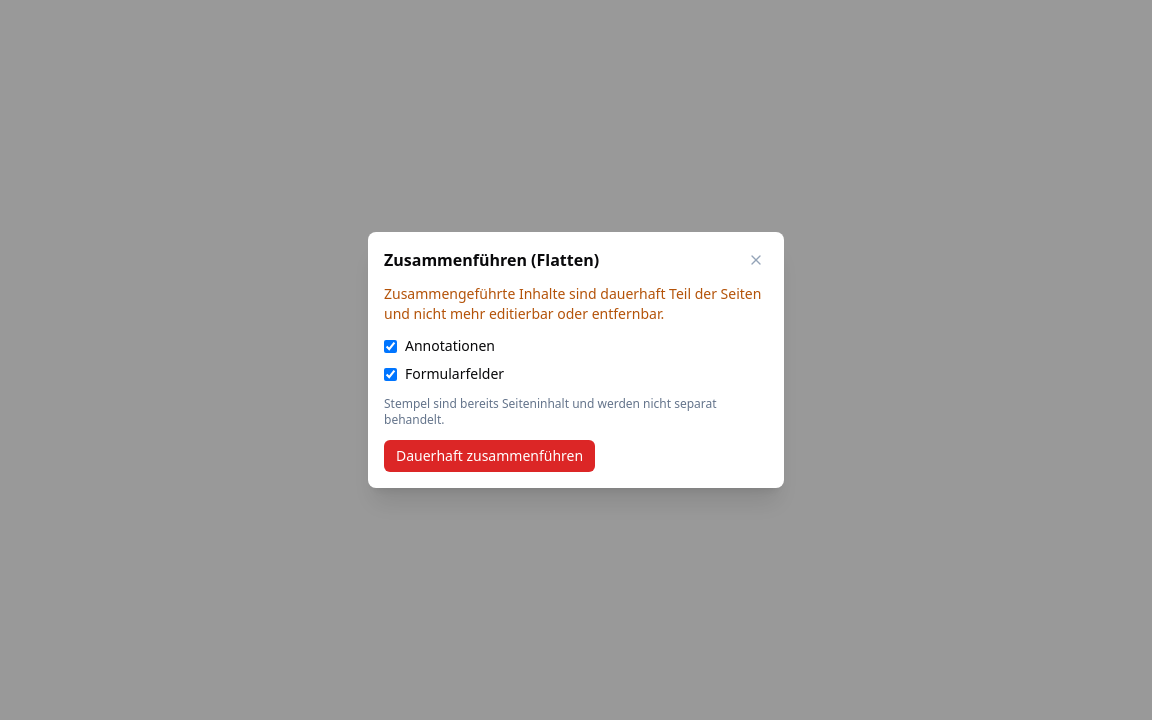
Scenario: PagesDialogs Bilder & Flatten (Section 7) › Flatten: ohne Kategorie deaktiv
Step 1. Click the checkbox with test id "flat-annotations" → (390, 346), box [384, 340, 397, 352]
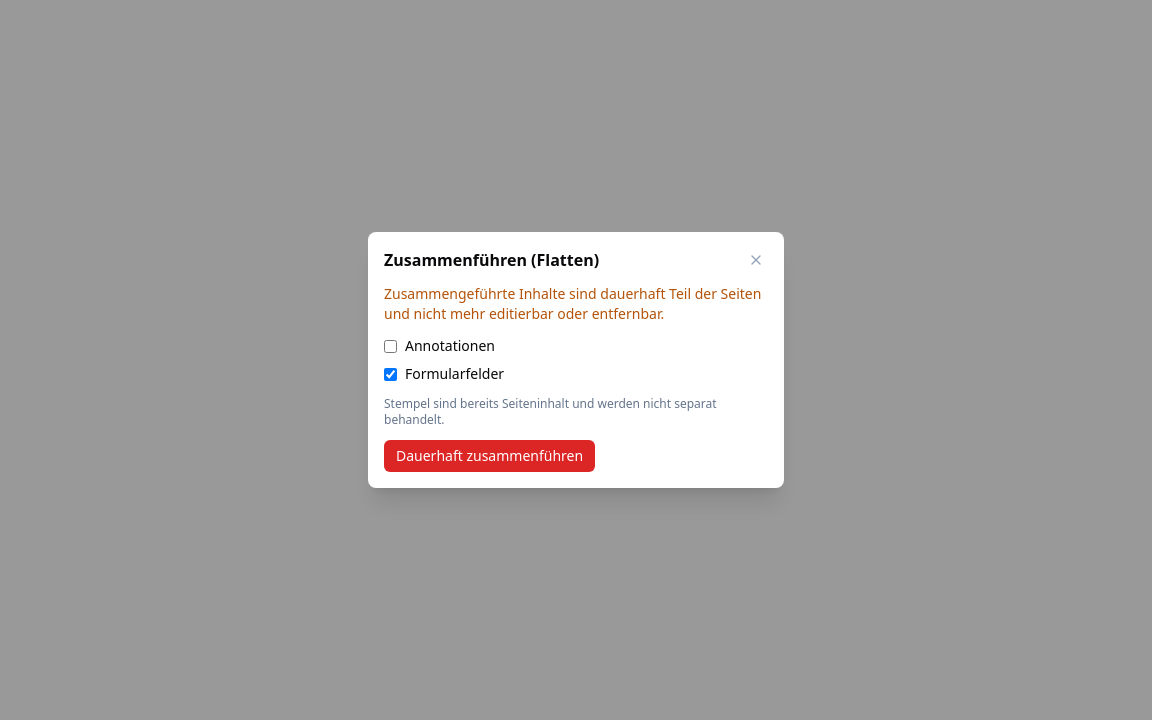
Step 2. Click the checkbox with test id "flat-forms" → (390, 374), box [384, 368, 397, 380]
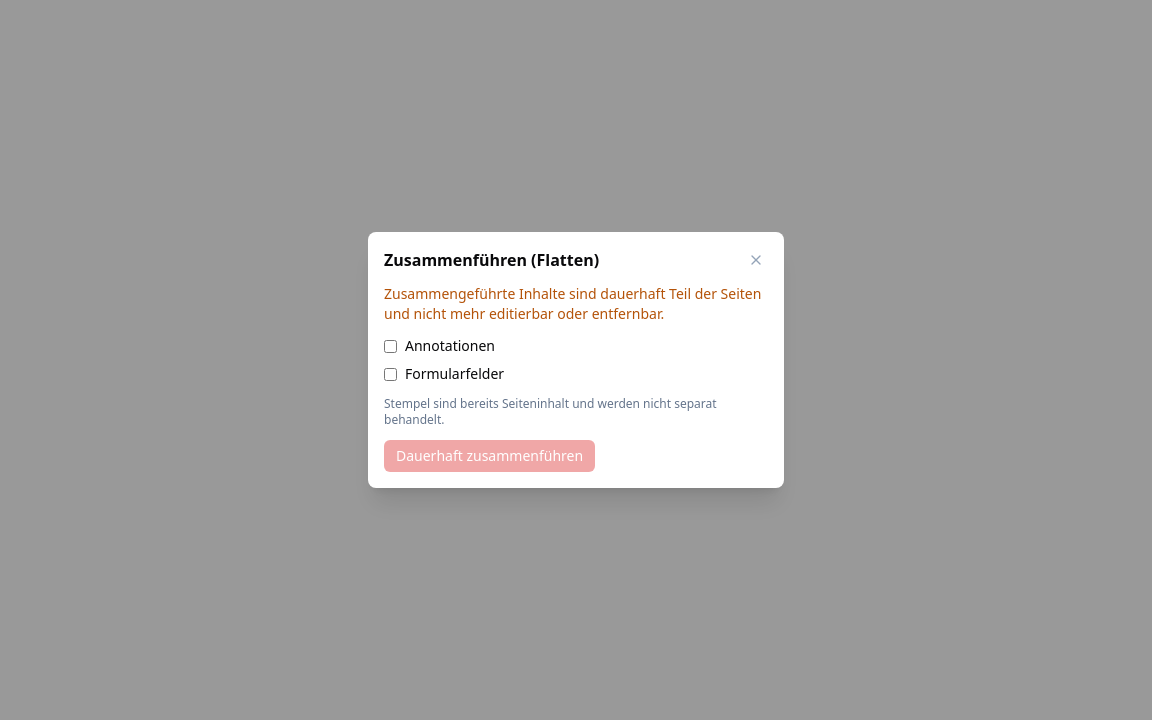
Expected: the button with test id "flatten-run" is disabled, [384, 440, 595, 472]
